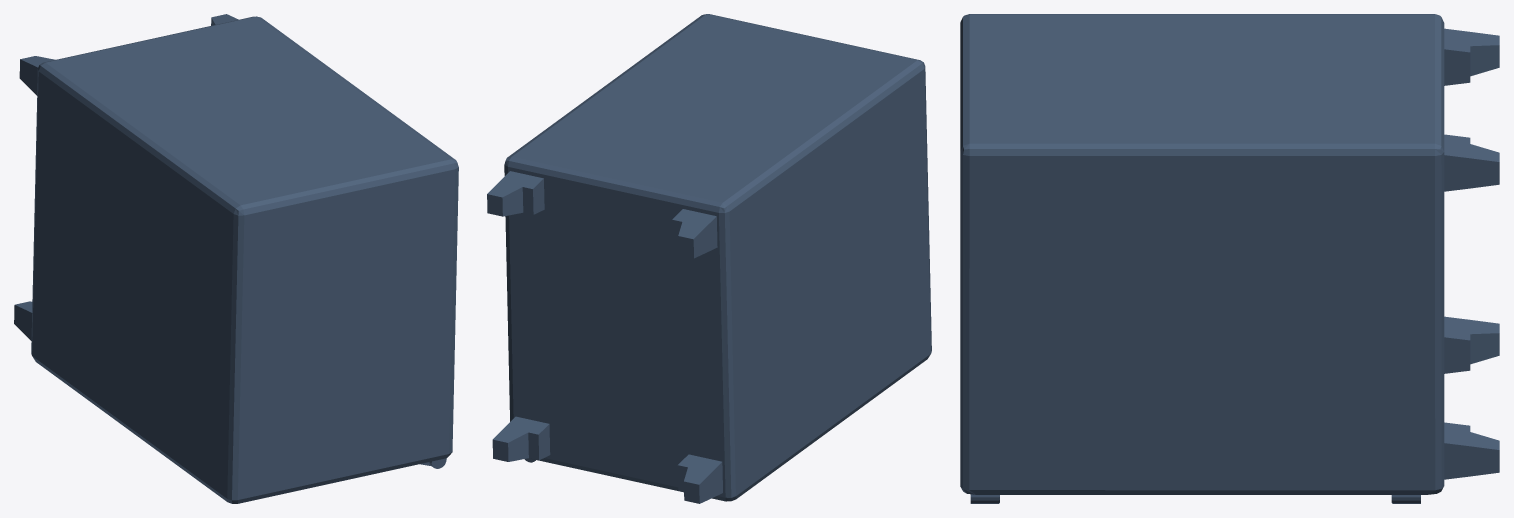
The model's file is 1_base__Safe.obj.
3 views of the same model, side by side, from view 1: azimuth 30°, elevation 25°; view 2: azimuth 150°, elevation 25°; view 3: azimuth 270°, elevation 25° (orthographic). The views are drawn at different scales.
Visible parts, largest first — view 1: 1_base__Safe; view 2: 1_base__Safe; view 3: 1_base__Safe.
Part boxes in pixels (x1,y1,x2,y2): 1_base__Safe: [14, 14, 458, 503]; 1_base__Safe: [487, 14, 931, 503]; 1_base__Safe: [960, 14, 1499, 503].
Bounding box in the file's own units: 0.3538 × 0.4572 × 0.6.
